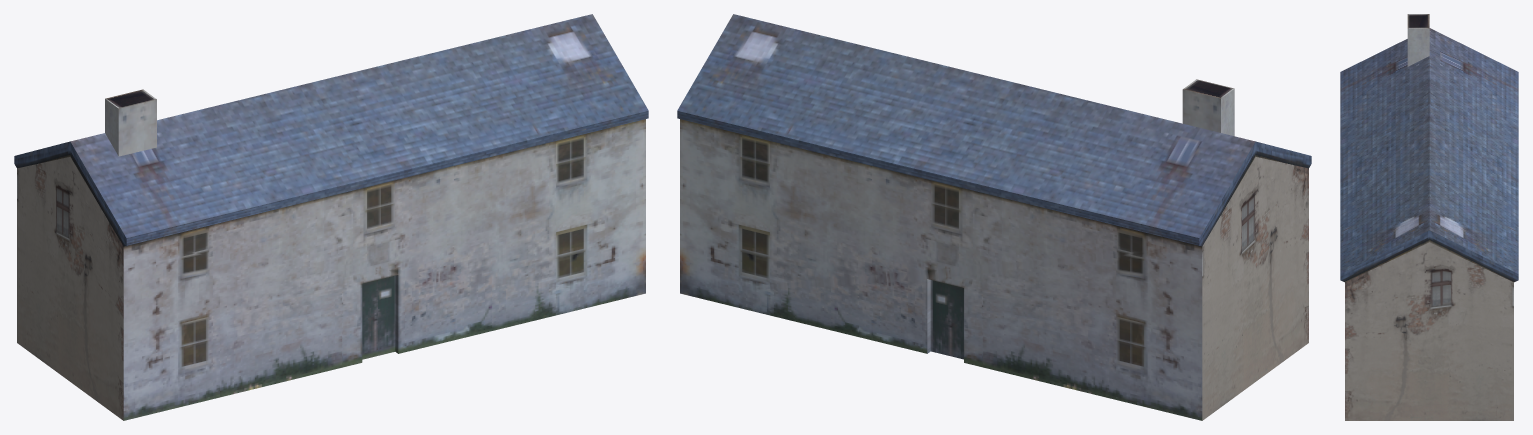
File: Building1.fbx
3 views of the same model, side by side, from view 1: azimuth 30°, elevation 25°; view 2: azimuth 150°, elevation 25°; view 3: azimuth 270°, elevation 25° (orthographic). The views are drawn at different scales.
Visible parts, largest first — view 1: Building1; view 2: Building1; view 3: Building1.
Boxes of the visible parts, bbox=[...] form: Building1: bbox=[14, 14, 648, 420]; Building1: bbox=[677, 14, 1311, 420]; Building1: bbox=[1340, 14, 1518, 420].
Size of the model in its own units: 1368 by 688 by 510.
